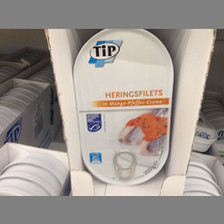fish: (74, 29, 174, 185)
